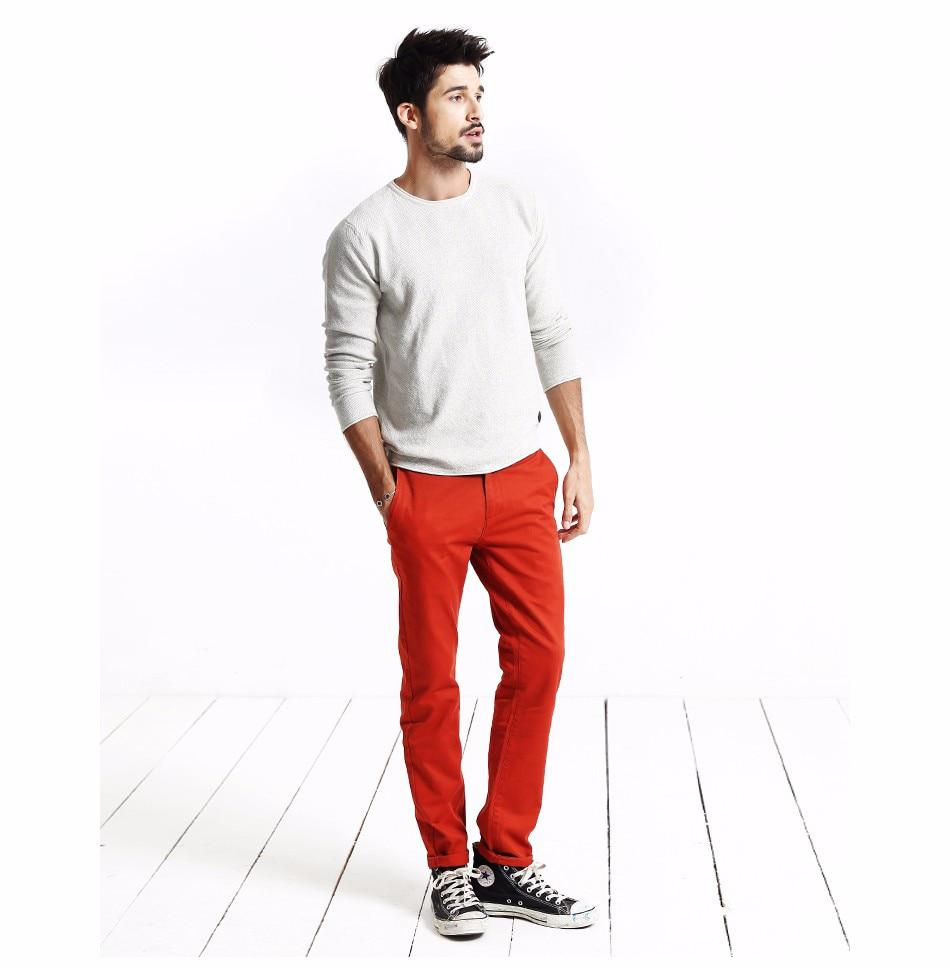pants: (376, 452, 565, 865)
